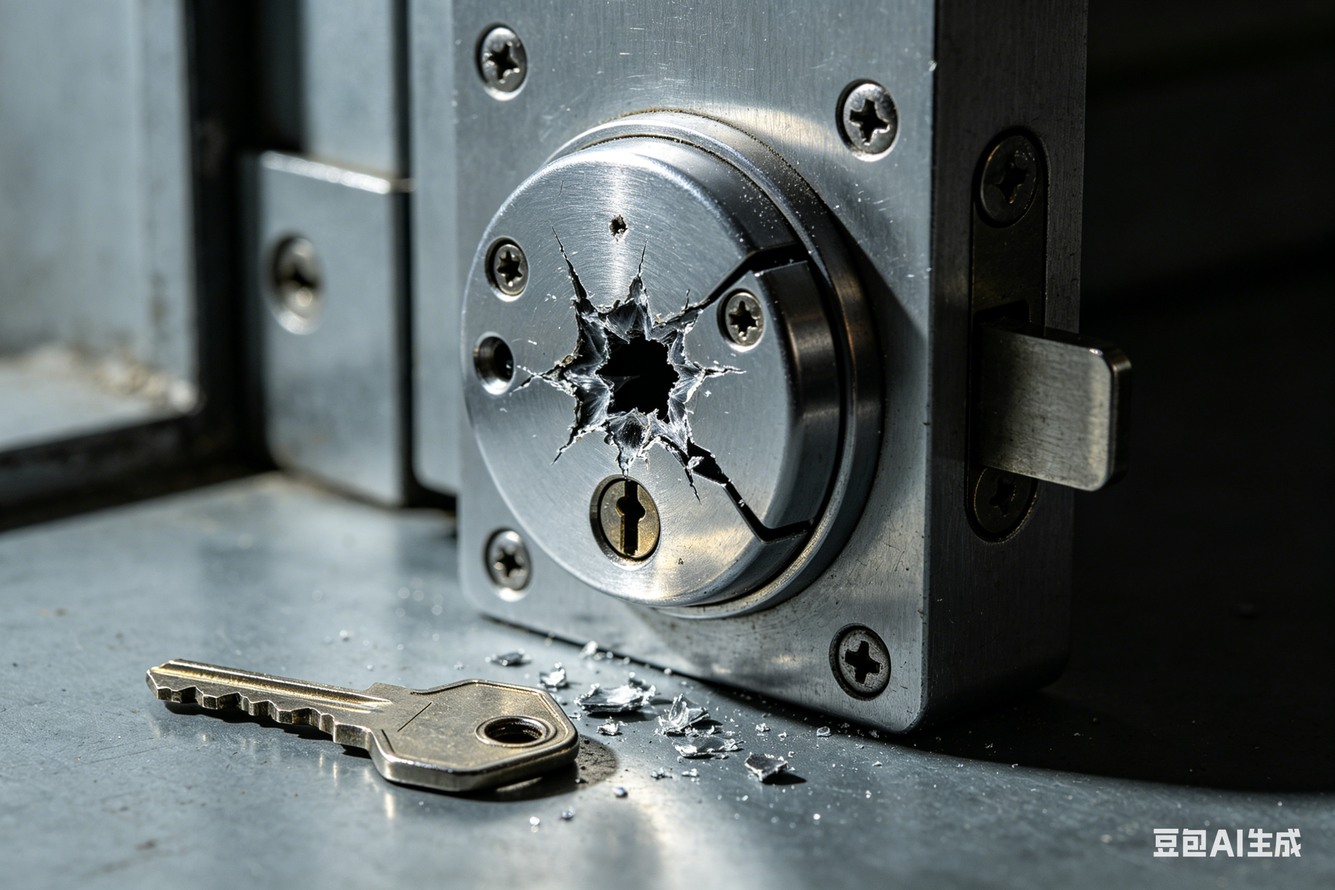BadLock: (535, 231, 735, 482)
